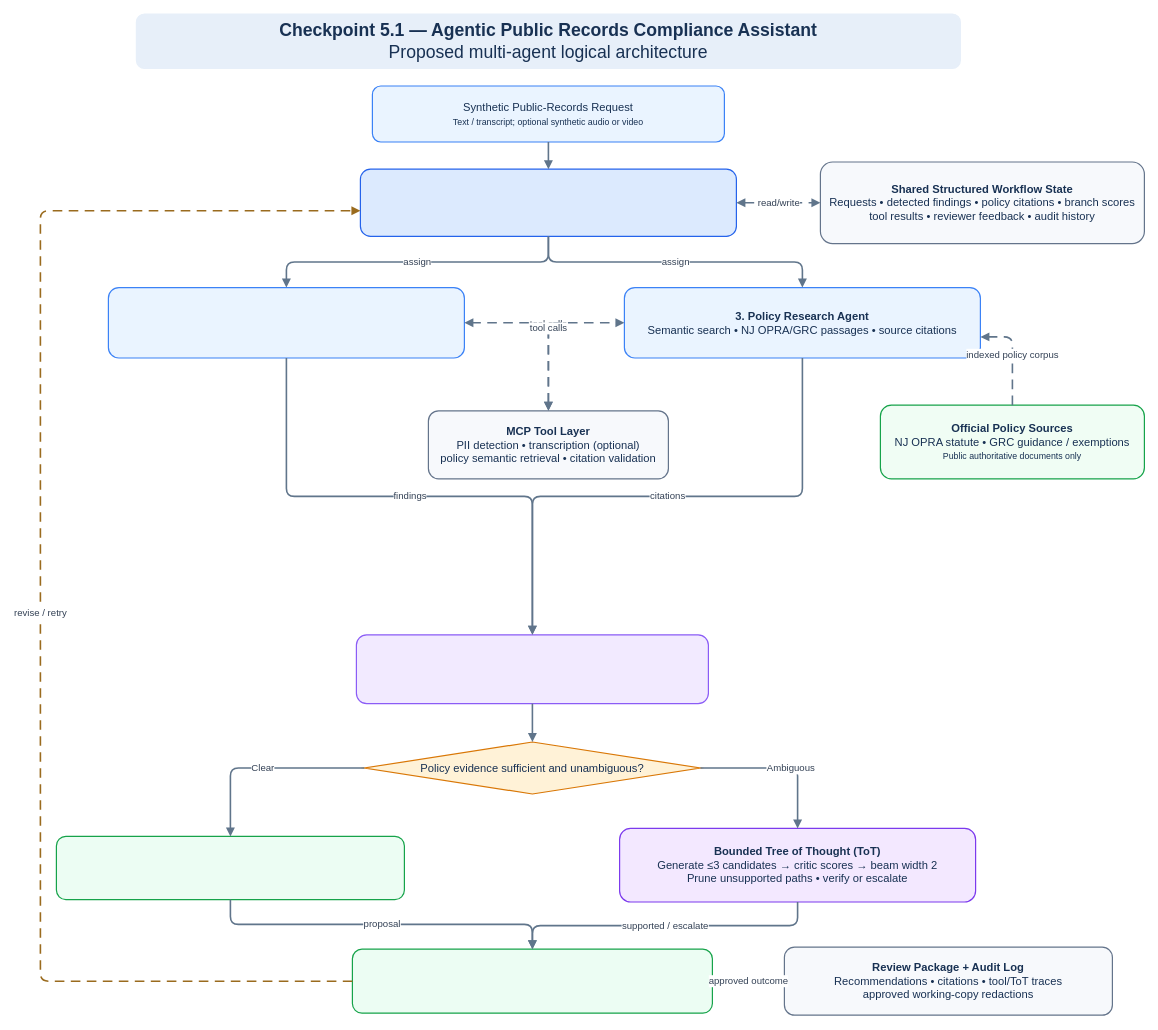
The diagram is 1158 pixels wide and 1030 high, and some of its shapes have lost their labels. The shapes that lost their labels are listed below. From the top down, each one's box as (x1, y1, x2, y2) in pixels, then its label:
(359, 168, 737, 237): 1. Orchestrator Agent Plan tasks • route work • maintain state • handle retries
(107, 287, 465, 358): 2. Record Analysis Agent Inspect record • detect candidate PII • record evidence
(355, 634, 709, 704): 4. Compliance & QA Agent Match findings to policy • verify support • flag gaps
(55, 835, 405, 900): Evidence-grounded recommendation Straightforward case — bypass ToT
(351, 948, 713, 1013): Human Reviewer Approve • reject • modify • final disclosure decision
